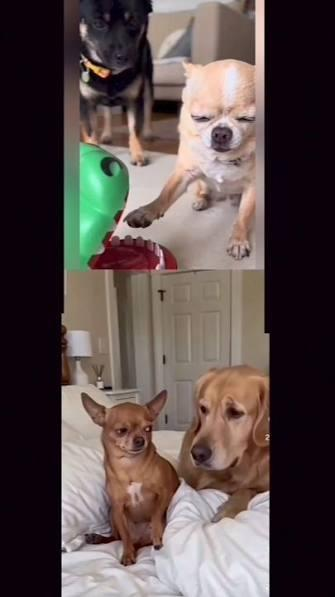adult_dog: (123, 57, 262, 261), (81, 391, 180, 567), (177, 366, 270, 521), (78, 0, 155, 166)
